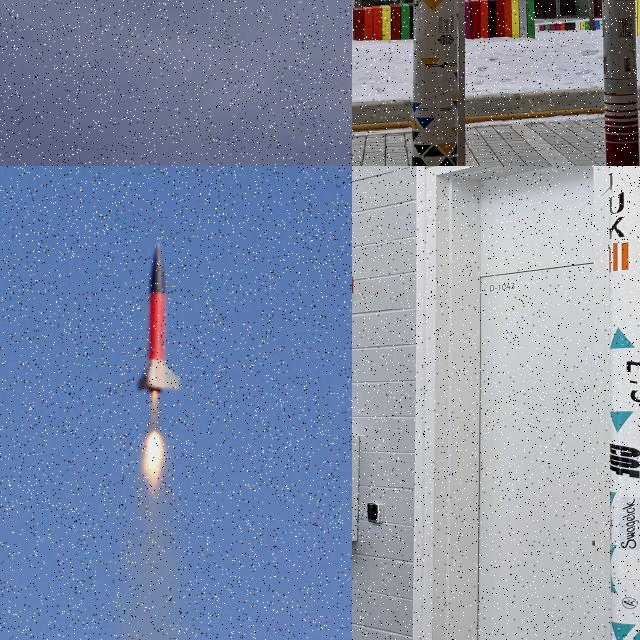Rocket: (609, 166, 640, 640), (411, 0, 459, 166), (135, 241, 182, 395), (602, 0, 640, 166)
